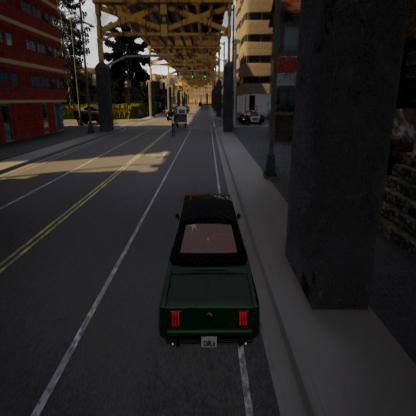Cars: (160, 193, 260, 348), (73, 106, 101, 127), (237, 108, 264, 126), (175, 106, 188, 129), (166, 108, 174, 122), (172, 112, 175, 136)
